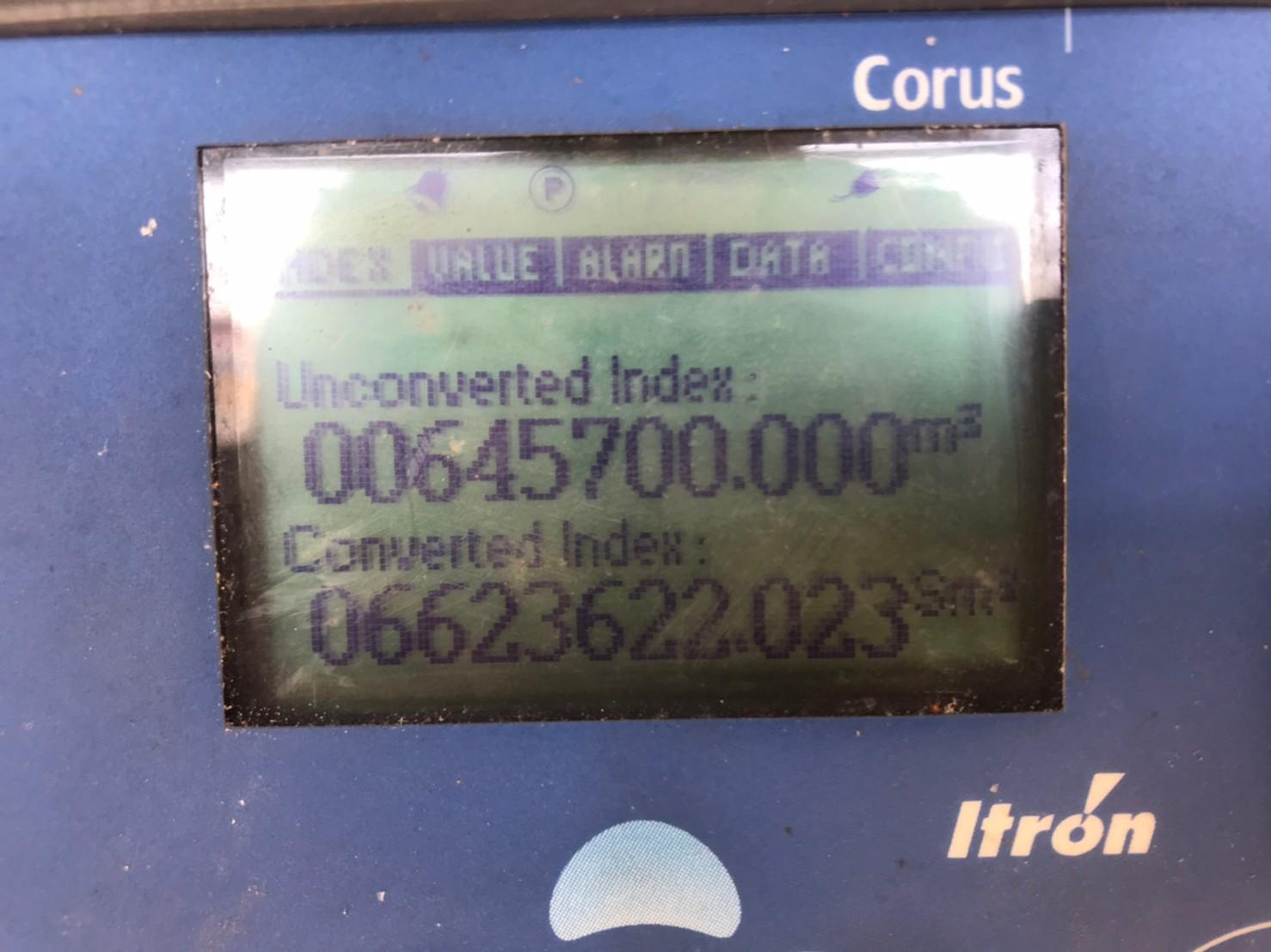digital_screen: (197, 126, 1077, 728)
